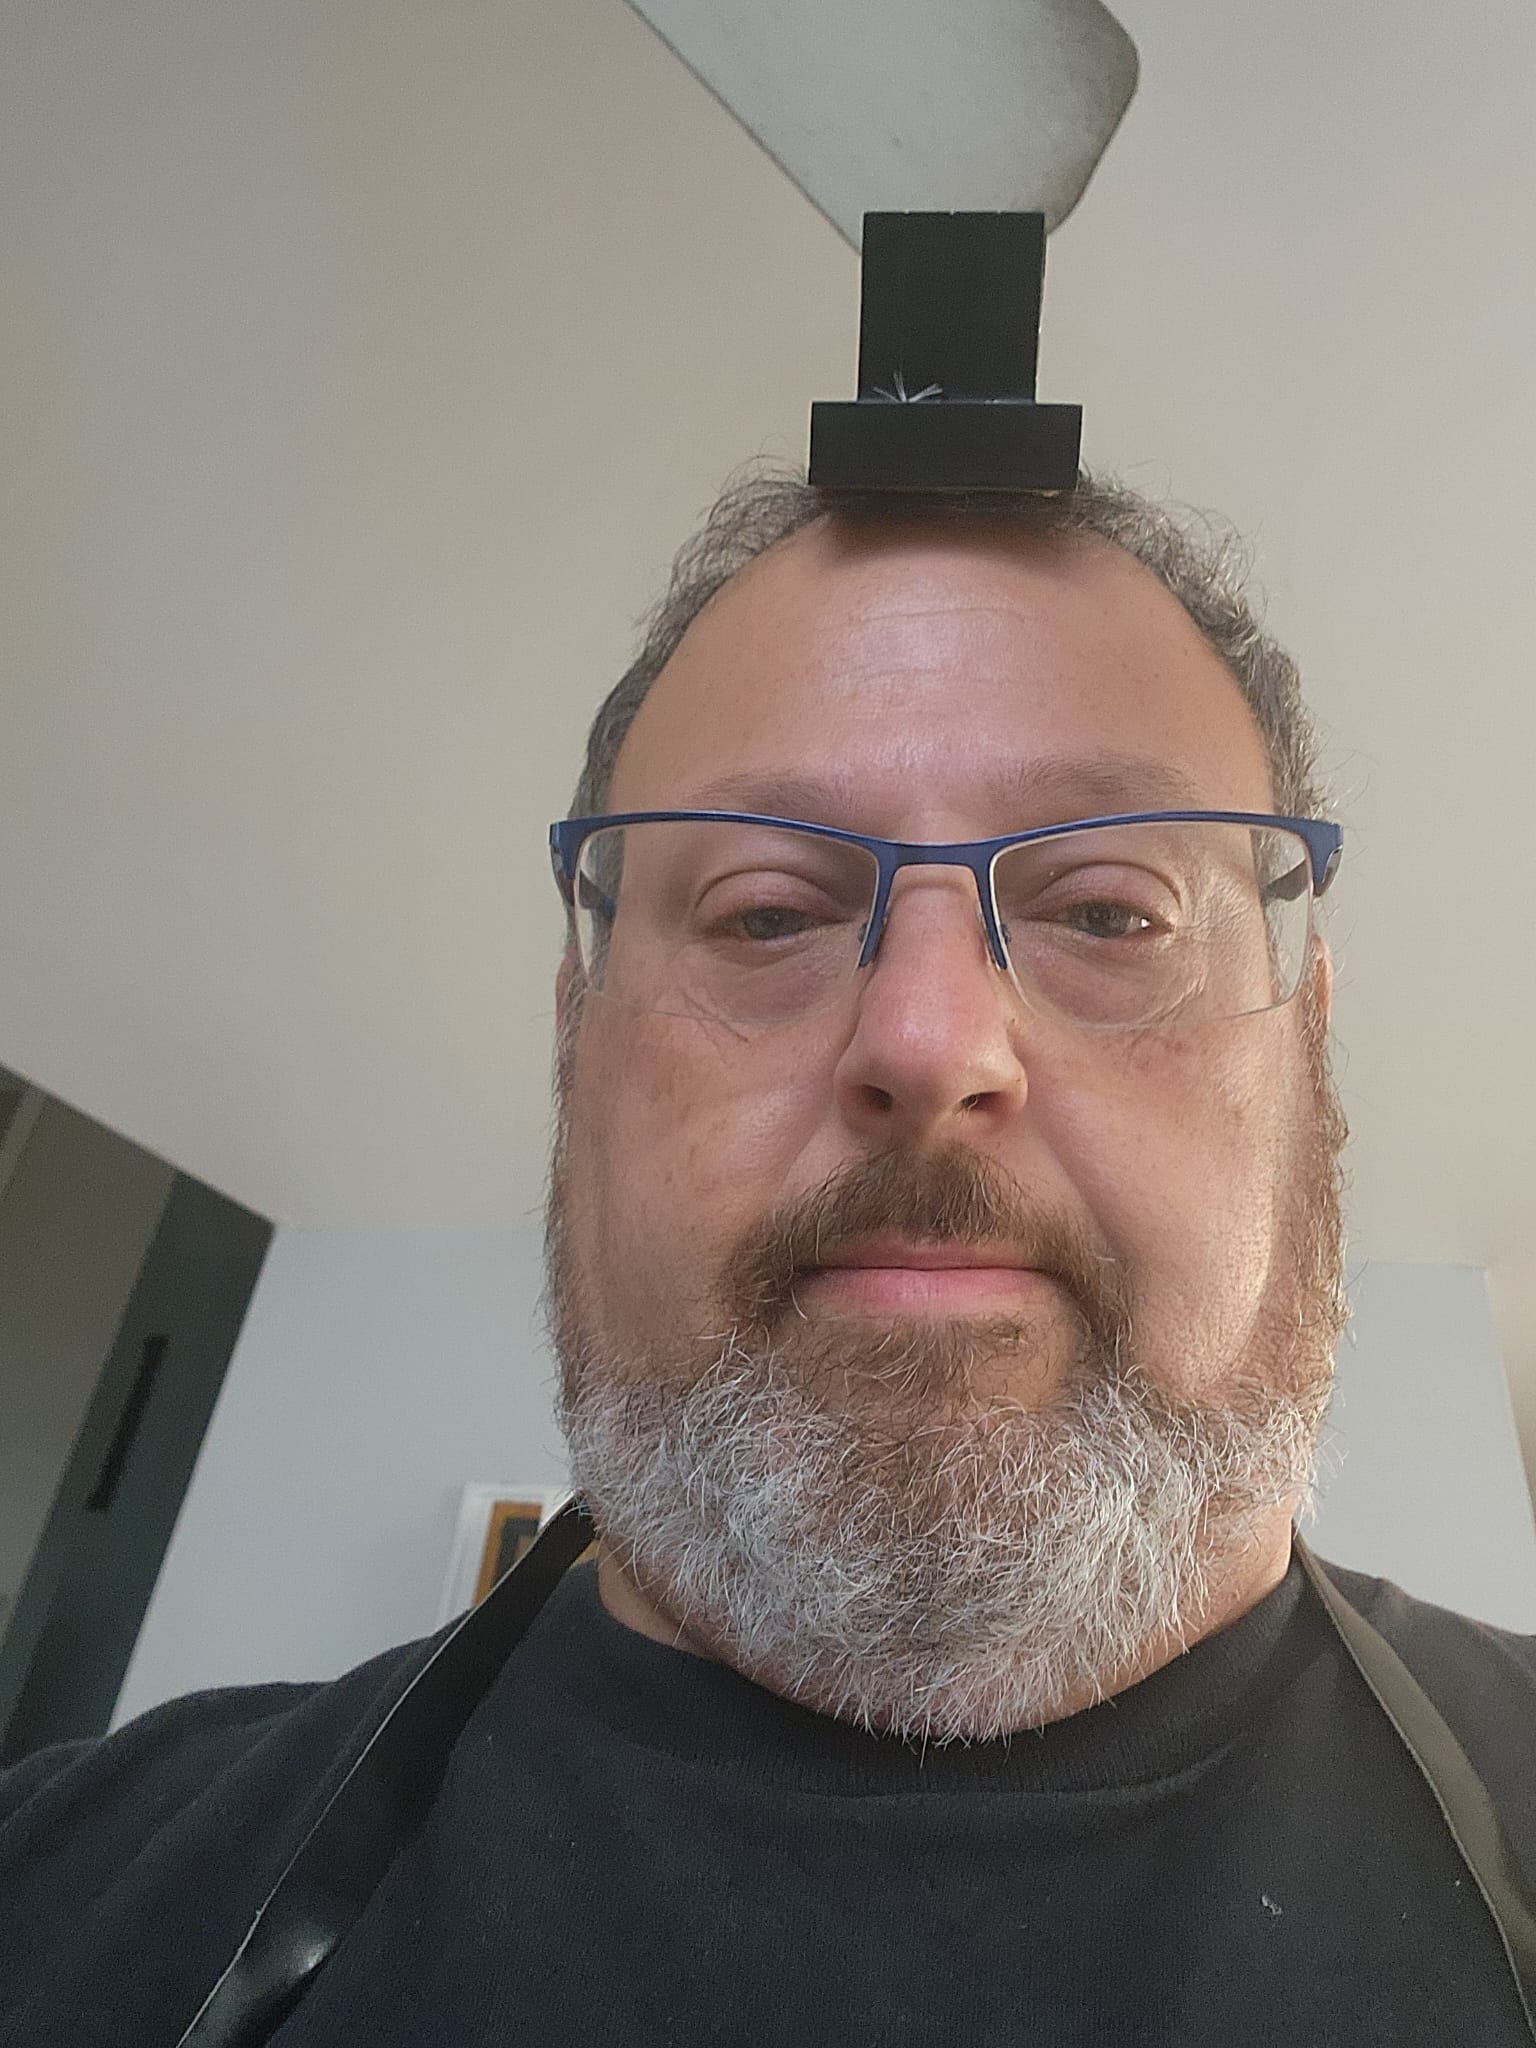tefillin: (812, 208, 1084, 500)
